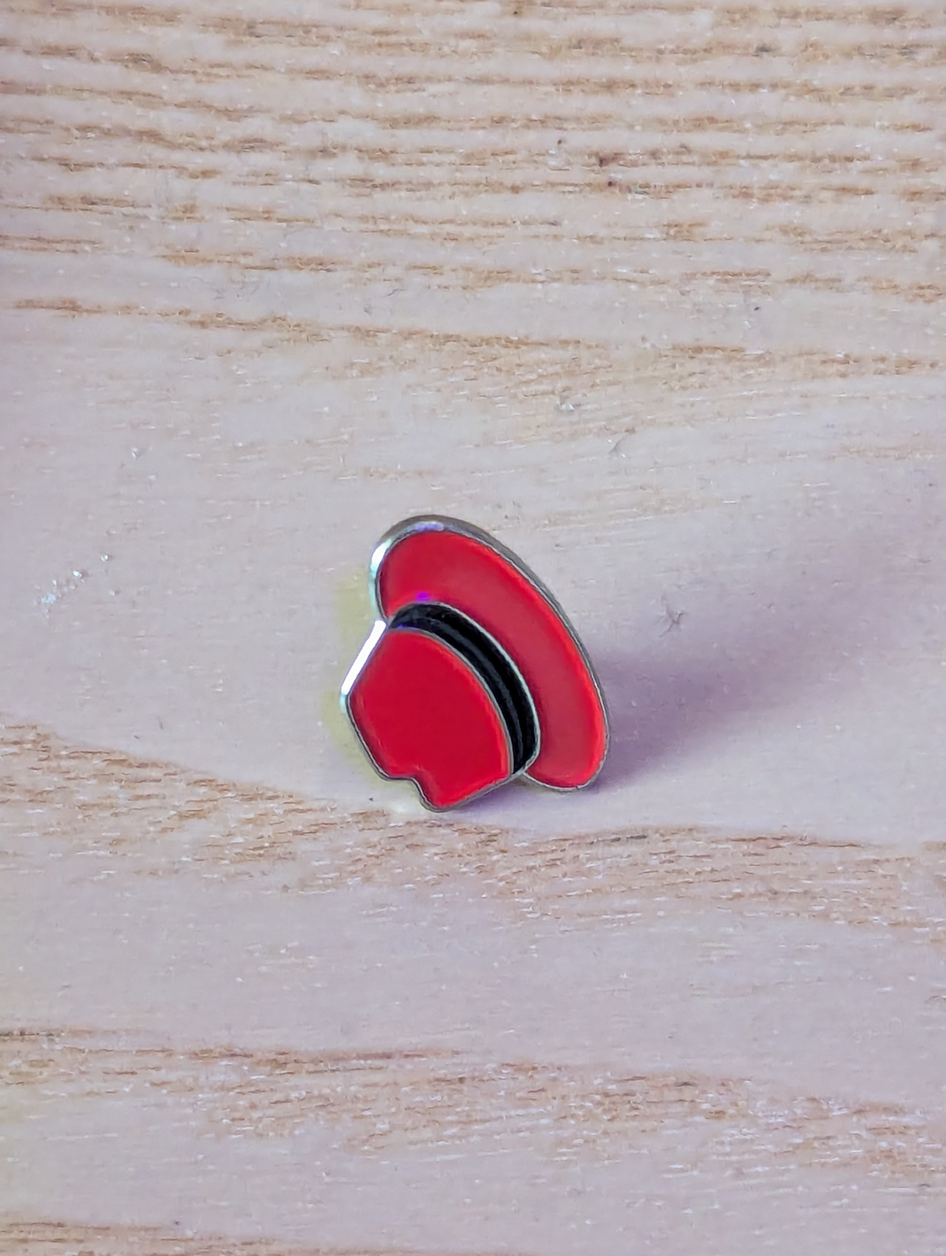Red-Hat: (219, 400, 757, 950)
